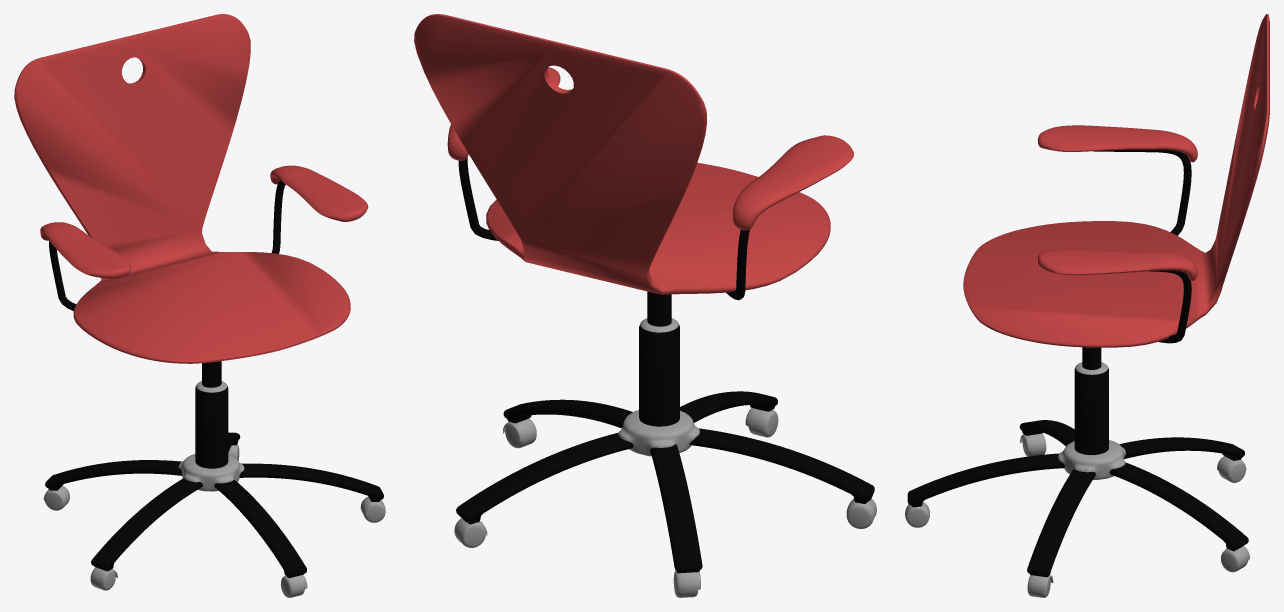
Rendered from Chair_1.fbx.
3 renders of one model, left to right at view 1: azimuth 30°, elevation 25°; view 2: azimuth 150°, elevation 25°; view 3: azimuth 270°, elevation 25°, orthographic. The views are drawn at different scales.
Visible parts, largest first — view 1: Chair_1; view 2: Chair_1; view 3: Chair_1.
Part boxes in pixels (bbox=[...]): Chair_1: bbox=[14, 14, 385, 597]; Chair_1: bbox=[414, 14, 876, 597]; Chair_1: bbox=[905, 14, 1269, 597].
Size of the model in its own units: 55.84 by 79.23 by 56.6.
